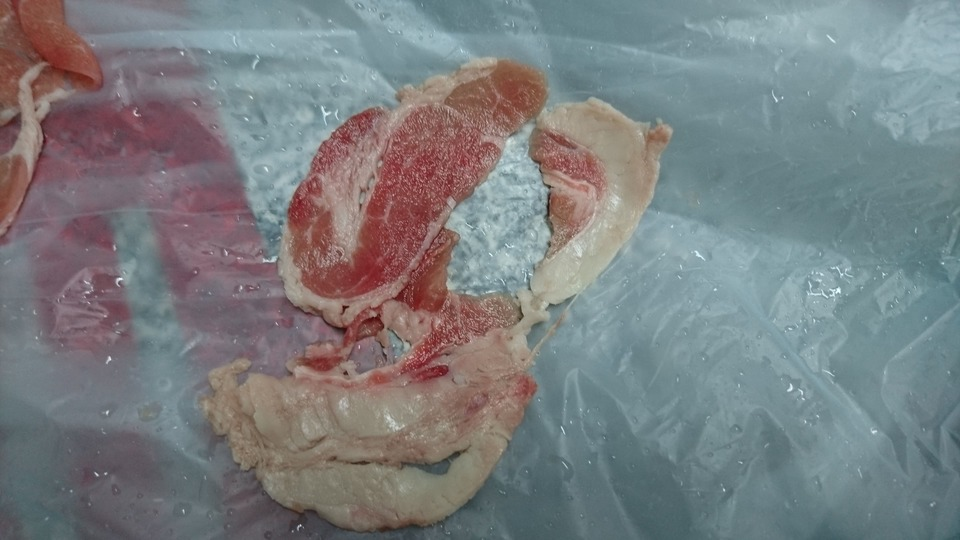restructured meat: (220, 56, 663, 533)
